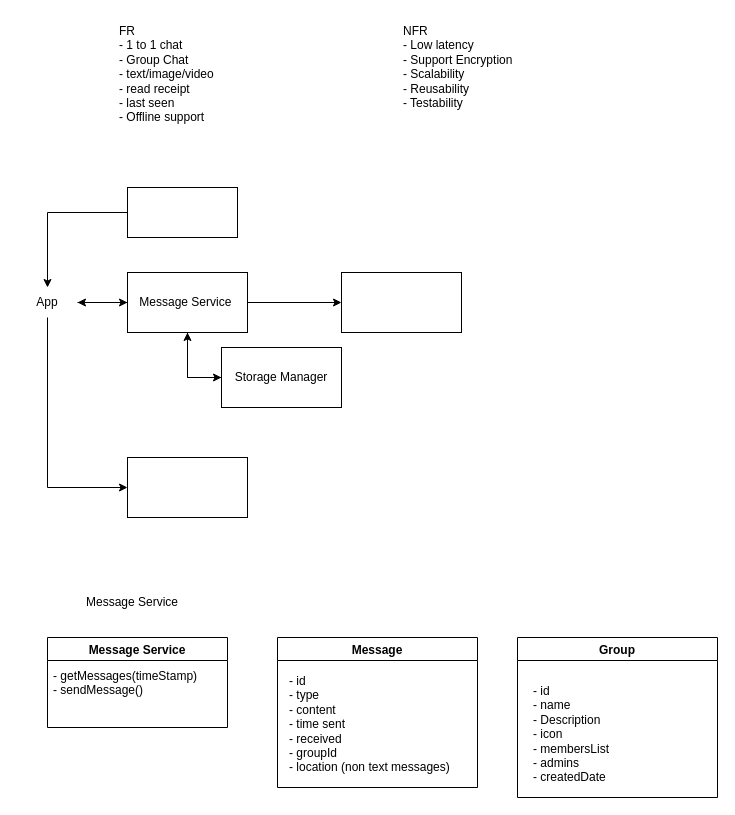
Some shapes in this 735 by 815 pixel diagram are drawn without their labels. Each missing label, with the centre of its shape:
"Analytics Manager" belongs at [187,487].
"Network Layer" belongs at [401,302].
"User" belongs at [182,212].
